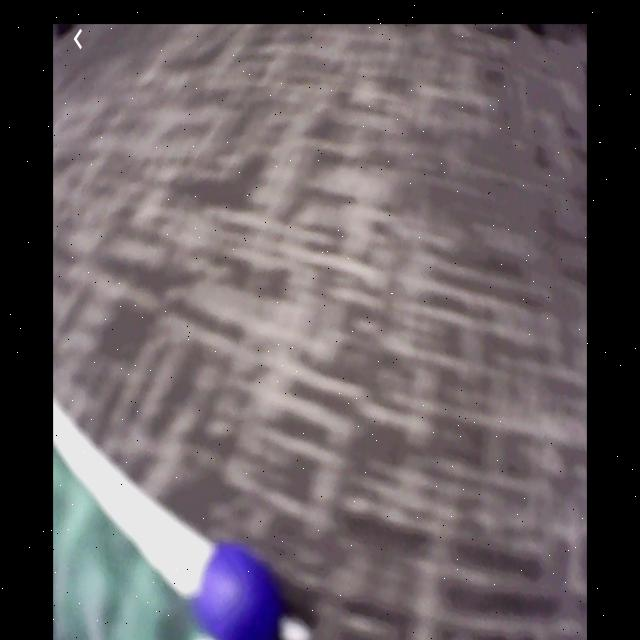ball: (198, 547, 283, 638)
